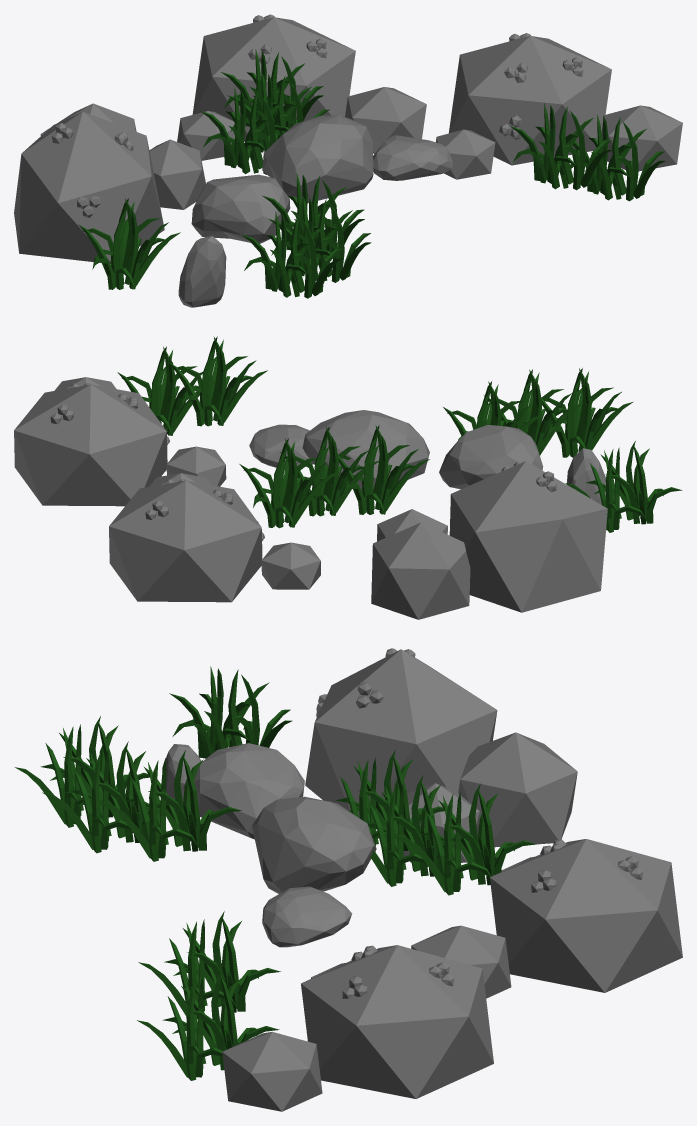
File: rockista.gltf
3 renders of one model, top to bottom at view 1: azimuth 30°, elevation 25°; view 2: azimuth 150°, elevation 25°; view 3: azimuth 270°, elevation 25°, orthographic. The views are drawn at different scales.
Parts seen in each view (by area): view 1: Icosphere.006, Icosphere.009, Icosphere.018, Icosphere.001, Icosphere, Cube.058, Cube.059, Cube.062, Cube.057, Cube.085, Icosphere.002, Icosphere.003 (+4 smaller); view 2: Icosphere.006, Icosphere.018, Icosphere.009, Icosphere.001, Icosphere, Cube.062, Cube.058, Cube.087, Cube.059, Cube.085, Cube.086, Cube.057 (+4 smaller); view 3: Icosphere.006, Icosphere.009, Icosphere.018, Icosphere.001, Icosphere, Cube.061, Cube.087, Cube.057, Cube.060, Cube.058, Cube.086, Cube.062 (+4 smaller).
Boxes of the visible parts, x1,y1,x2,y2 form: Icosphere.006: (14,103,205,263); Icosphere.009: (436,33,682,179); Icosphere.018: (177,14,426,160); Icosphere.001: (262,115,373,202); Icosphere: (191,174,290,243); Cube.058: (509,103,612,190); Cube.059: (241,211,343,298); Cube.062: (78,198,180,289); Cube.057: (570,114,665,201); Cube.085: (200,88,283,174); Icosphere.002: (373,135,452,180); Icosphere.003: (178,236,226,307); Icosphere.006: (371,461,607,619); Icosphere.018: (109,473,320,602); Icosphere.009: (14,377,226,506); Icosphere.001: (302,410,429,490); Icosphere: (439,425,543,489); Cube.062: (565,441,682,532); Cube.058: (168,336,267,426); Cube.087: (239,438,339,528); Cube.059: (541,368,633,457); Cube.085: (338,425,429,514); Cube.086: (280,426,380,516); Cube.057: (117,346,215,435); Icosphere.006: (305,648,577,862); Icosphere.009: (222,945,493,1111); Icosphere.018: (411,839,682,998); Icosphere.001: (252,796,376,893); Icosphere: (182,743,304,839); Cube.061: (99,750,241,861); Cube.087: (394,783,536,895); Cube.057: (137,969,279,1080); Cube.060: (42,741,184,853); Cube.058: (138,911,280,1019); Cube.086: (368,775,479,886); Cube.062: (169,666,292,758).
Size of the model in its own units: 5.74 by 1.2 by 4.56.
